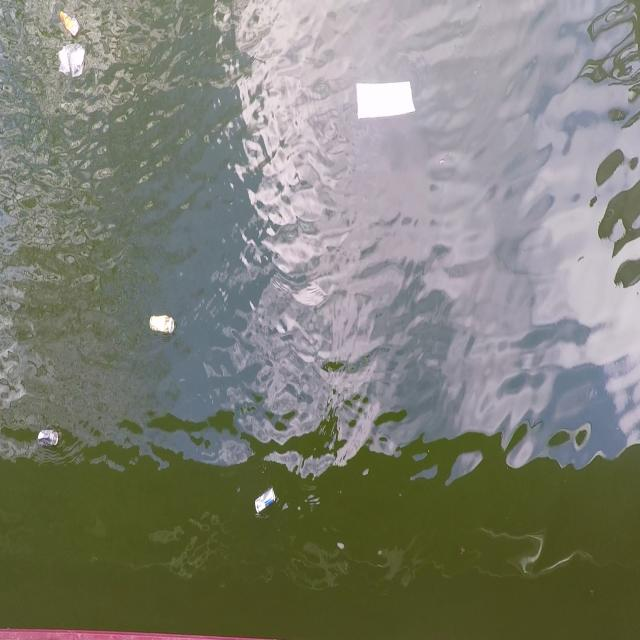Autre plastique: (350, 76, 419, 125)
Non plastique: (146, 307, 178, 342), (254, 485, 279, 519), (36, 424, 62, 451)
Sac plastique: (56, 39, 90, 83)
